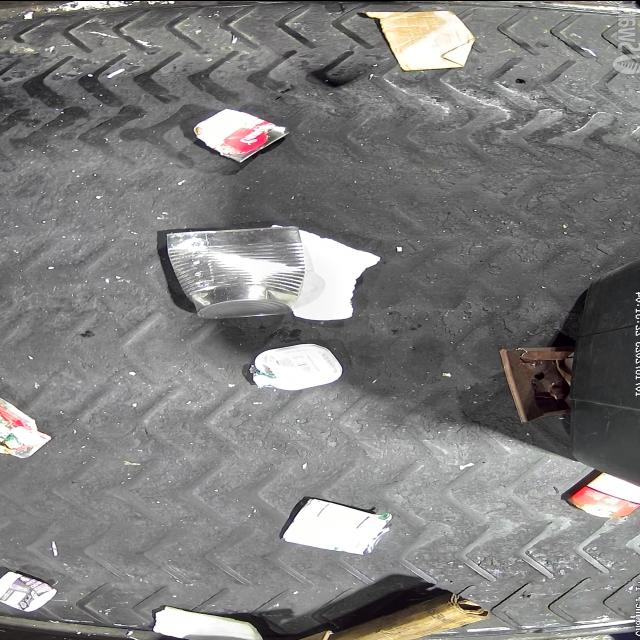can: (166, 226, 304, 318), (280, 496, 394, 555), (192, 107, 290, 161)
